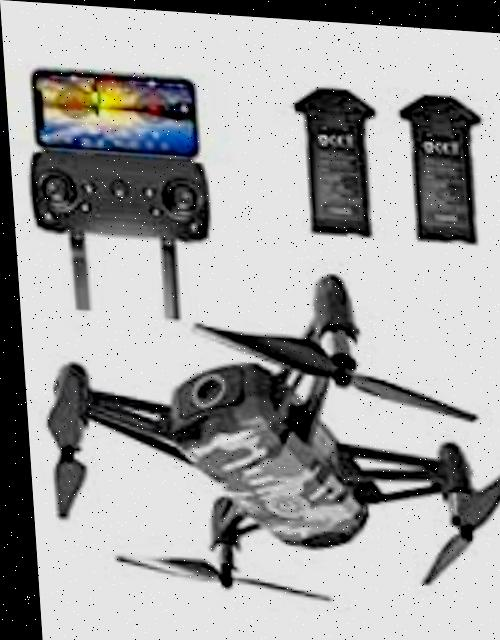drone: (13, 252, 500, 634)
